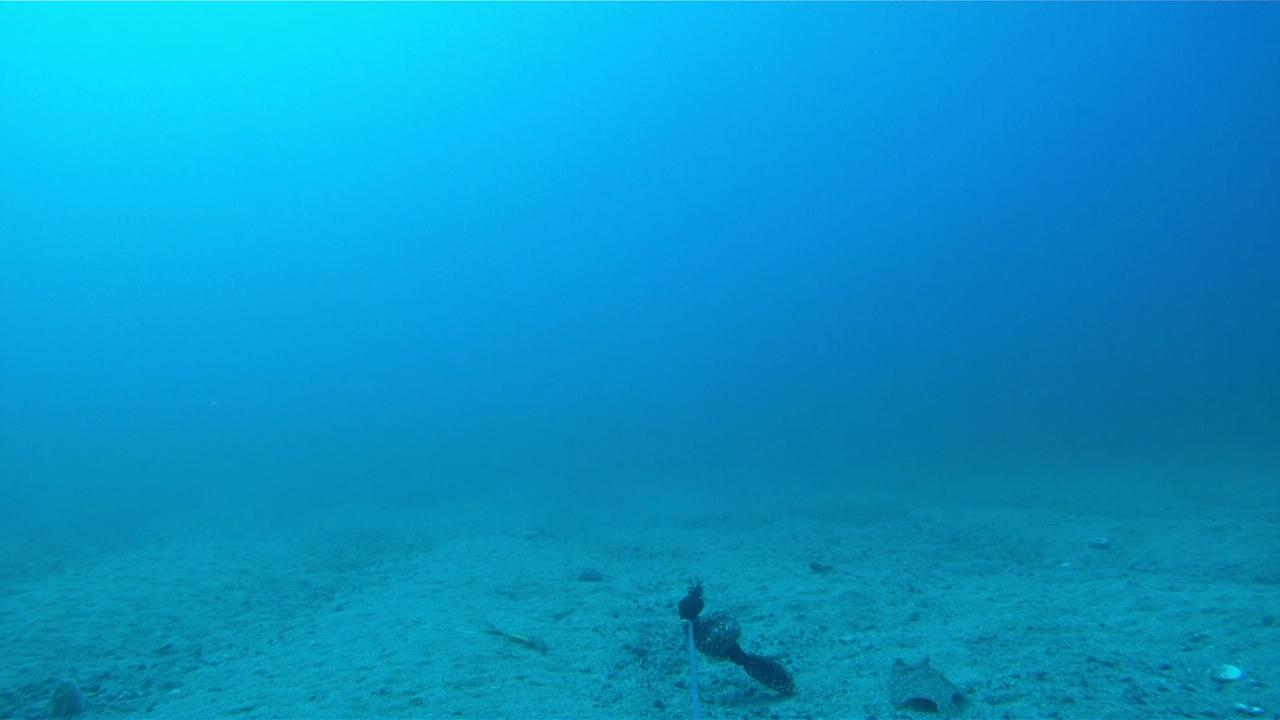bothus: (883, 652, 973, 719)
